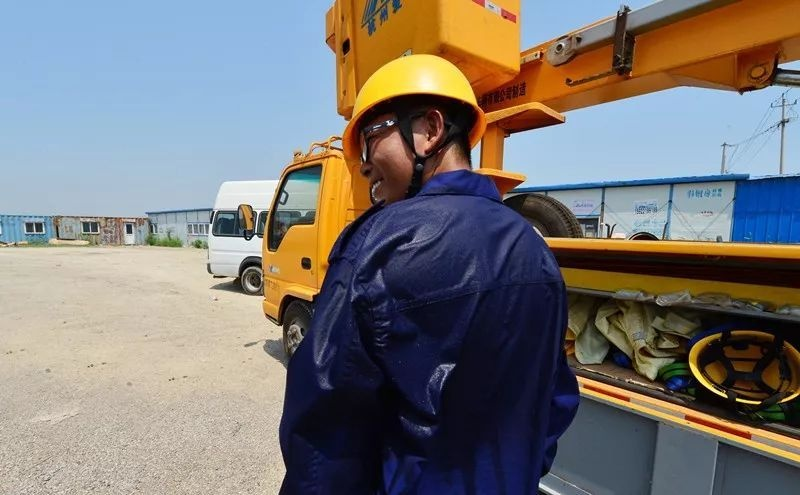yellow: (347, 53, 496, 214)
